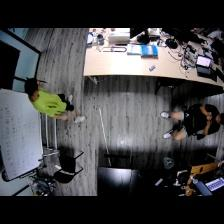normal: (25, 79, 85, 122), (160, 105, 224, 140)
